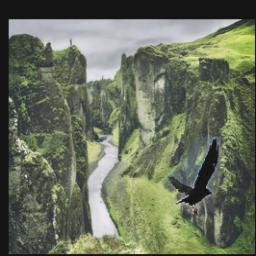Crow: (165, 137, 219, 214)
